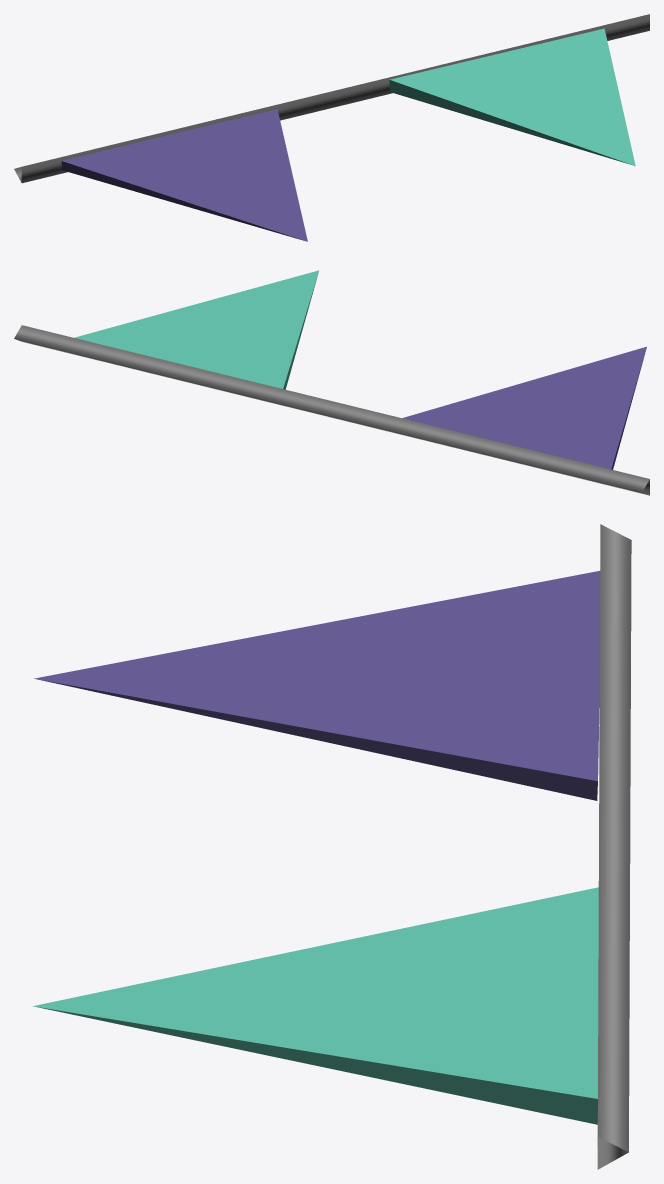
Rendered from BlizzardBeachPennantFlags.fbx.
3 views of the same model, one above another, from view 1: azimuth 30°, elevation 25°; view 2: azimuth 150°, elevation 25°; view 3: azimuth 270°, elevation 25° (orthographic). The views are drawn at different scales.
Visible parts, largest first — view 1: BlizzardBeachPennantFlags; view 2: BlizzardBeachPennantFlags; view 3: BlizzardBeachPennantFlags.
Part boxes in pixels (bbox=[...]): BlizzardBeachPennantFlags: bbox=[14, 14, 649, 241]; BlizzardBeachPennantFlags: bbox=[14, 270, 649, 495]; BlizzardBeachPennantFlags: bbox=[33, 524, 631, 1169].
Size of the model in its own units: 95.88 by 2.44 by 39.63.
